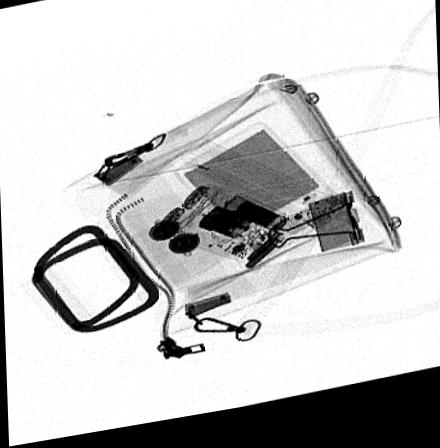Powerbank: (171, 130, 338, 262)
